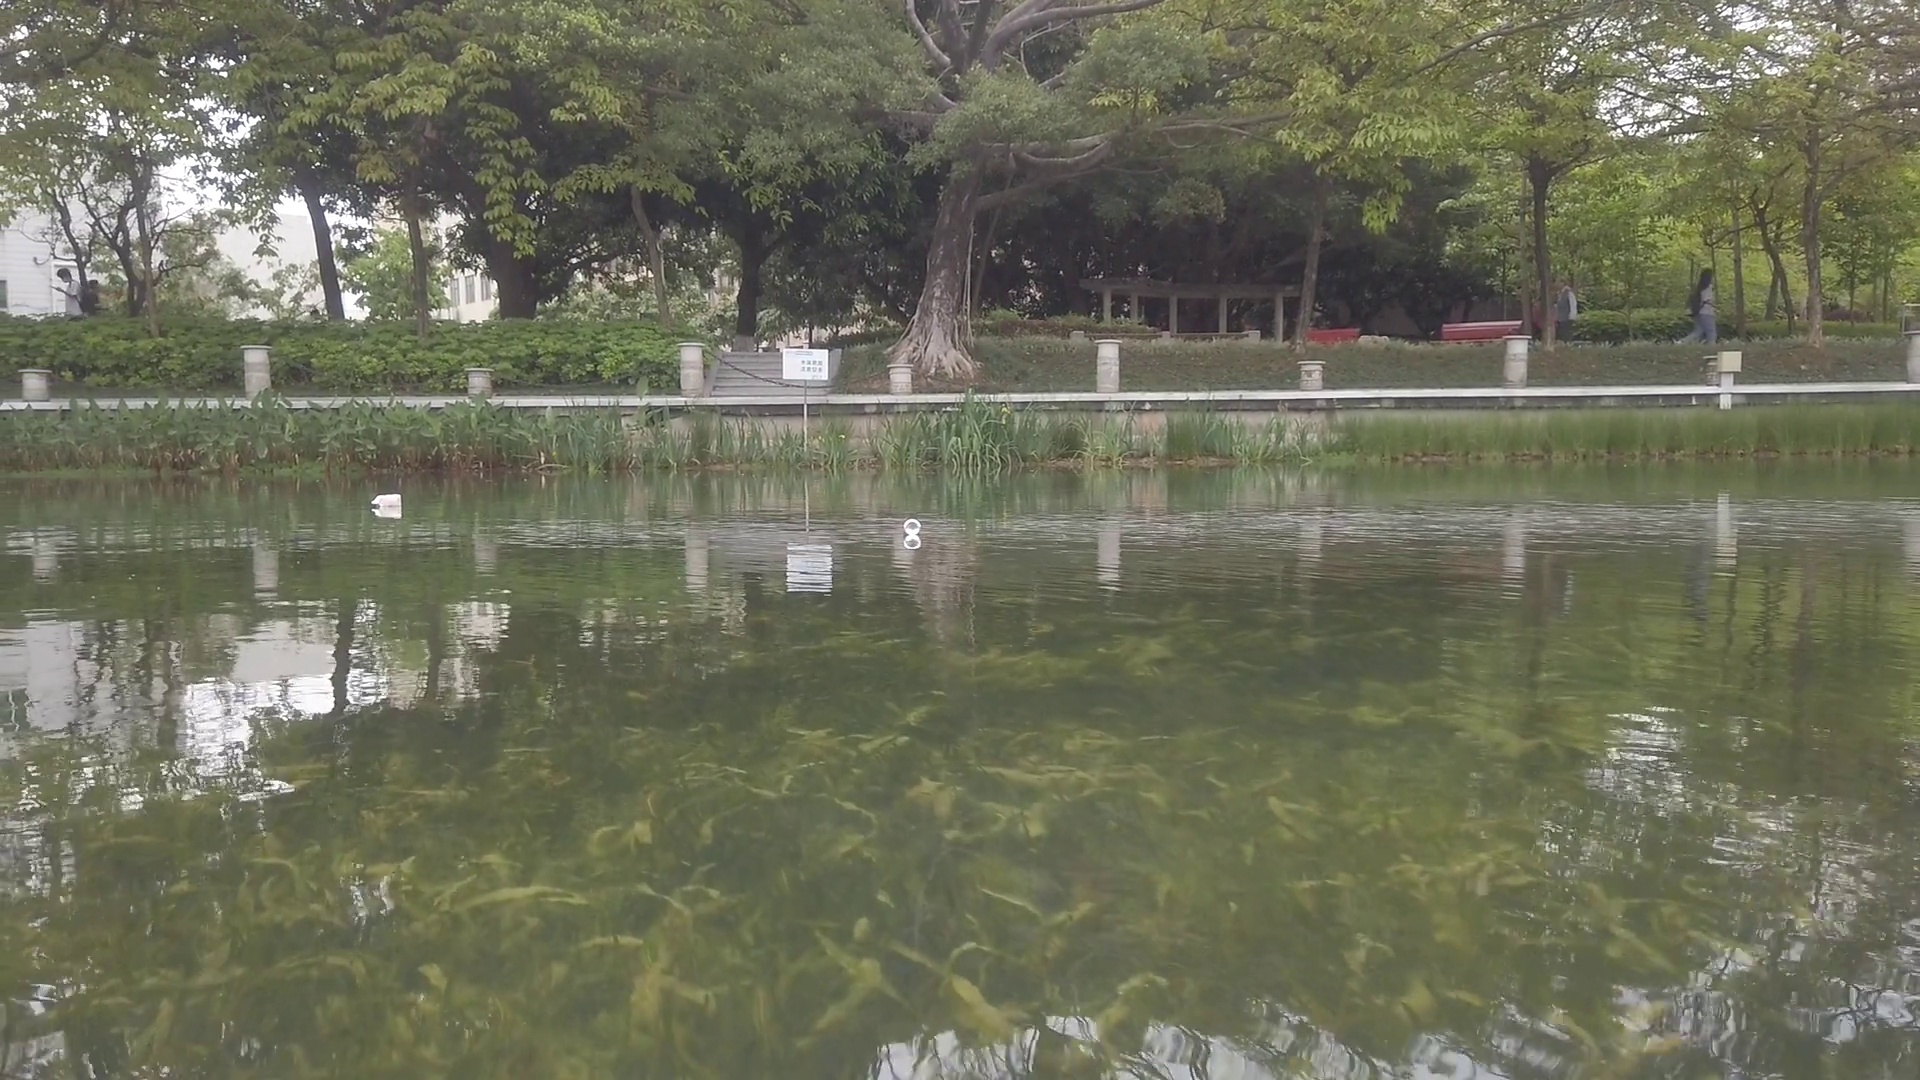bottle: (905, 518, 919, 534)
carton: (373, 495, 402, 509)
